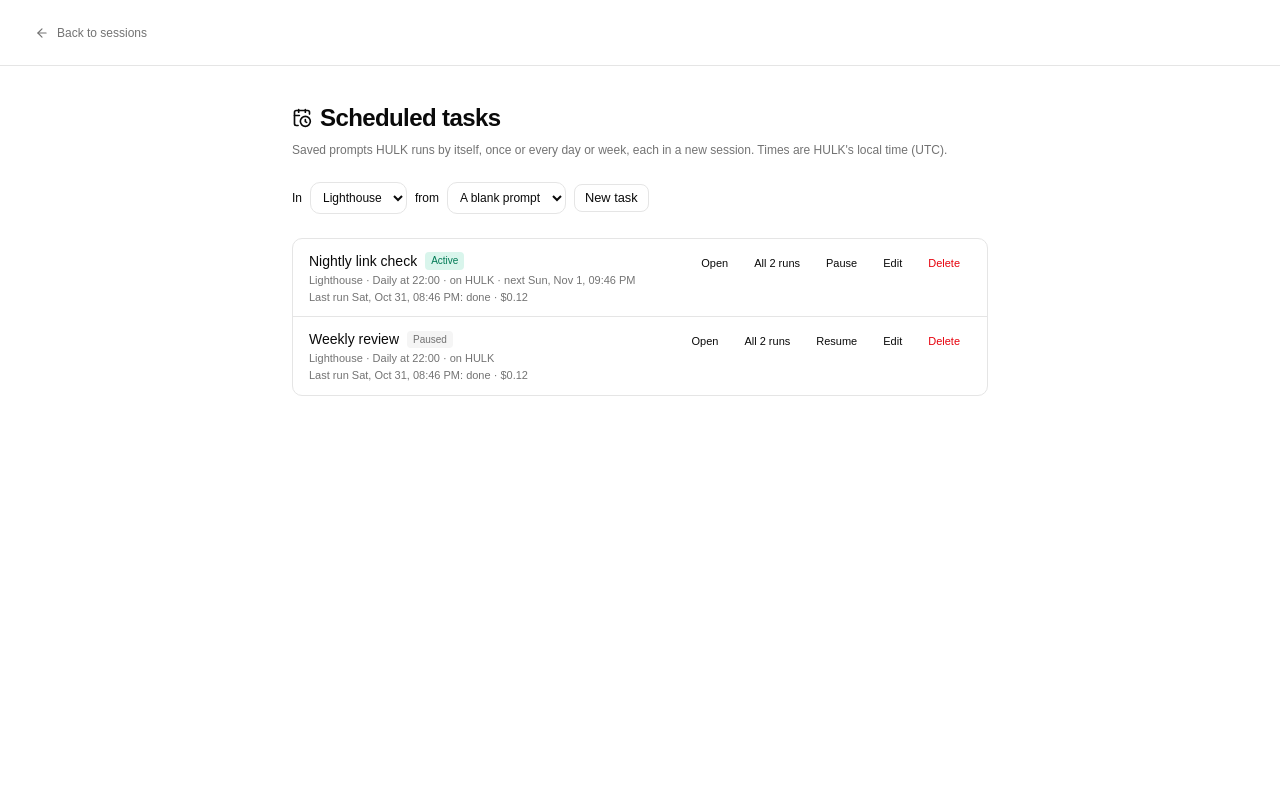
Test: a new task can start from a saved prompt
The image size is (1280, 800).
Select "Release notes" in the dropdown named "Start from a saved prompt": (506, 198) [447,182,566,214]
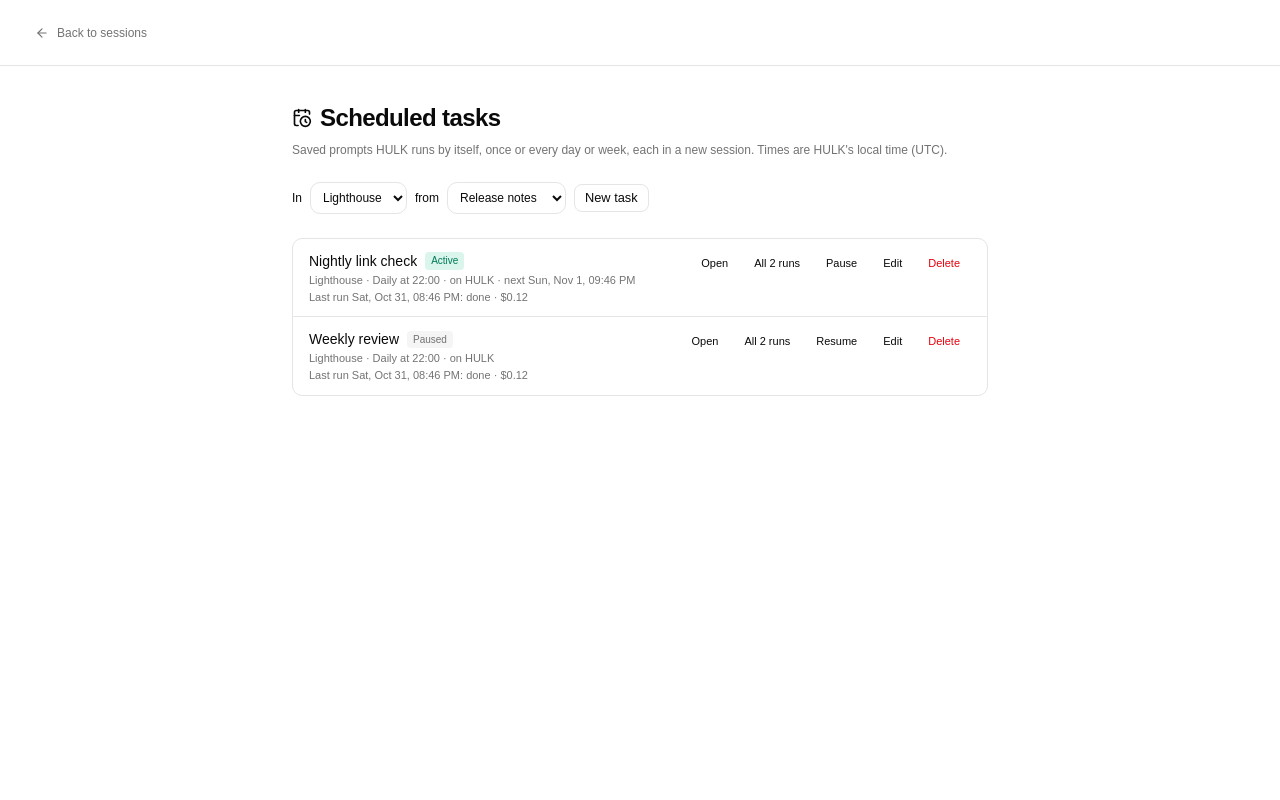
Click the button "New task": (611, 198) [574,184,649,212]
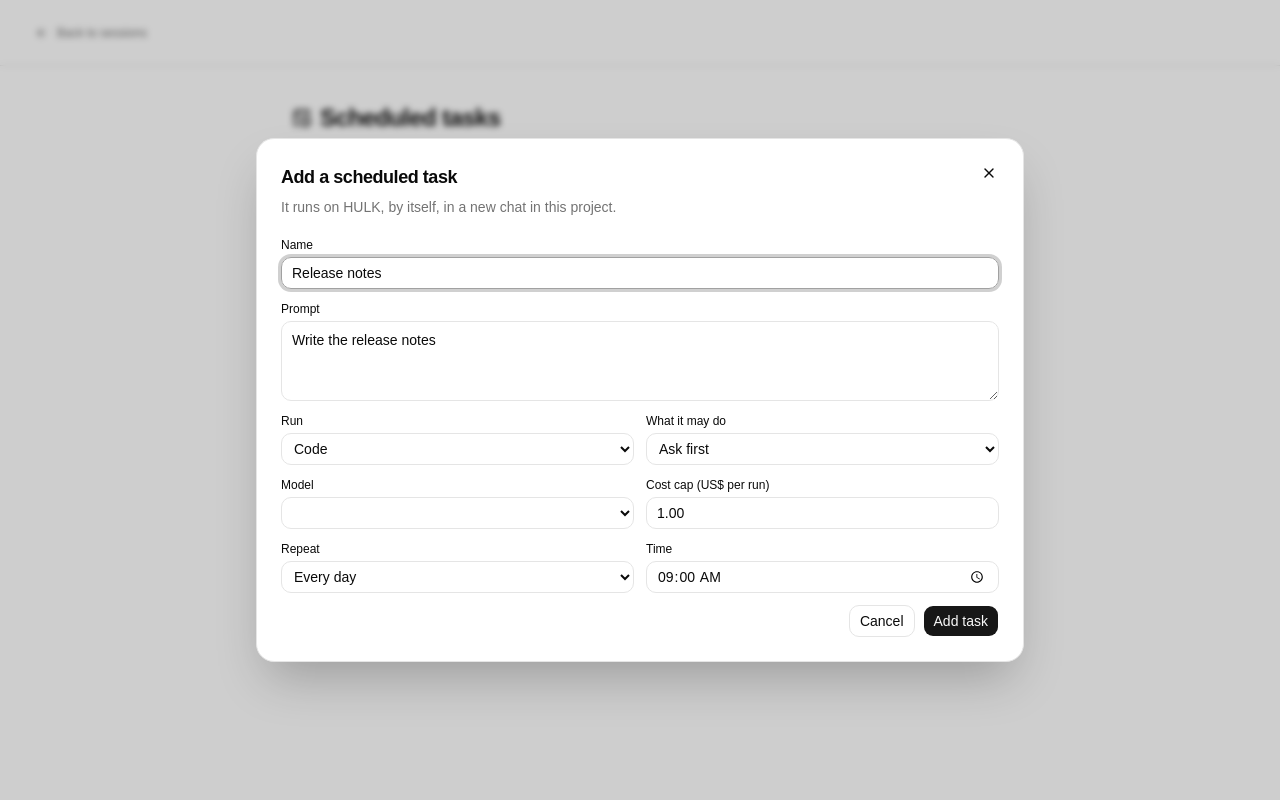
Result: the field showing "Release notes" is shown at [281,257,999,289]
Result: the text box showing "Write the release notes" is shown at [281,321,999,401]
